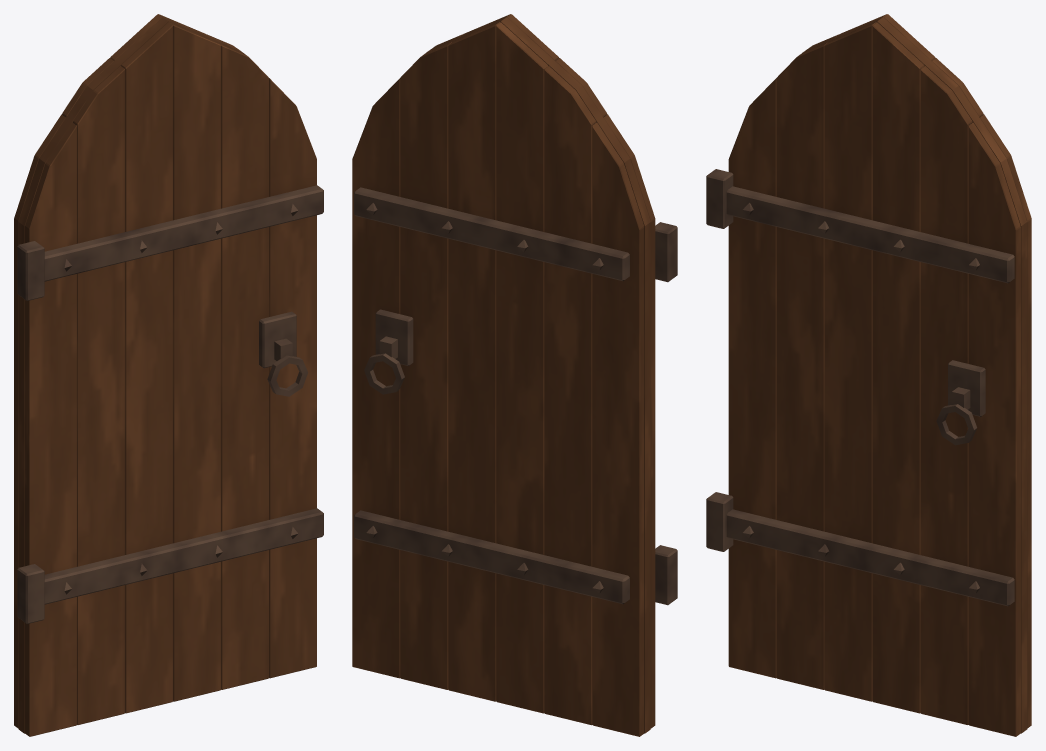
The model's file is door_arch_heavy_leaf_01_godot.glb.
The picture shows the model from 3 angles, left to right: view 1: azimuth 30°, elevation 25°; view 2: azimuth 150°, elevation 25°; view 3: azimuth 330°, elevation 25°; orthographic projection.
Parts seen in each view (by area): view 1: door_arch_heavy_leaf_01; view 2: door_arch_heavy_leaf_01; view 3: door_arch_heavy_leaf_01.
Part boxes in pixels (<box>): door_arch_heavy_leaf_01: <box>14,14,323,736</box>; door_arch_heavy_leaf_01: <box>352,14,677,736</box>; door_arch_heavy_leaf_01: <box>706,14,1031,736</box>.
Size of what is drawn, in the model's own units: 0.8775 by 1.89 by 0.231.
2 materials, 2 textured.
